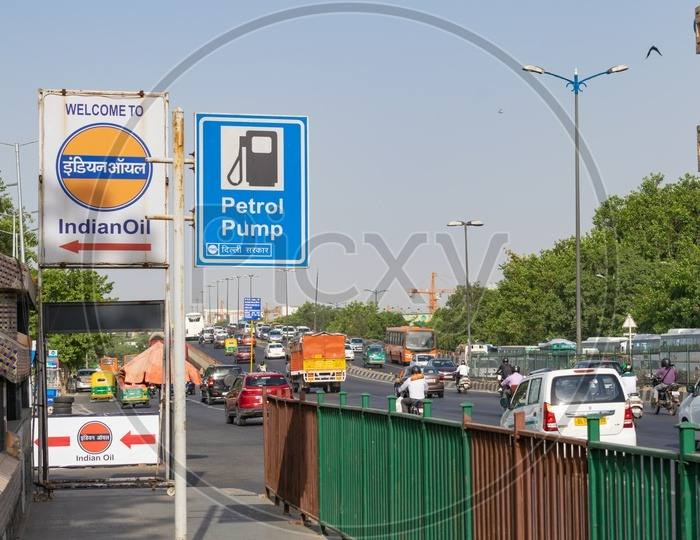bike: (650, 358, 682, 417), (397, 370, 429, 419), (455, 367, 469, 397)
bus: (385, 321, 441, 358)
car: (507, 376, 640, 453), (230, 375, 298, 419), (200, 364, 241, 399), (362, 343, 389, 369), (262, 341, 285, 362), (230, 345, 258, 362)
fuel-station: (191, 111, 311, 270)
left turn: (58, 240, 153, 256), (121, 430, 157, 449), (36, 437, 72, 447)
rickshaw: (90, 372, 119, 403)
truck: (285, 338, 352, 383)
